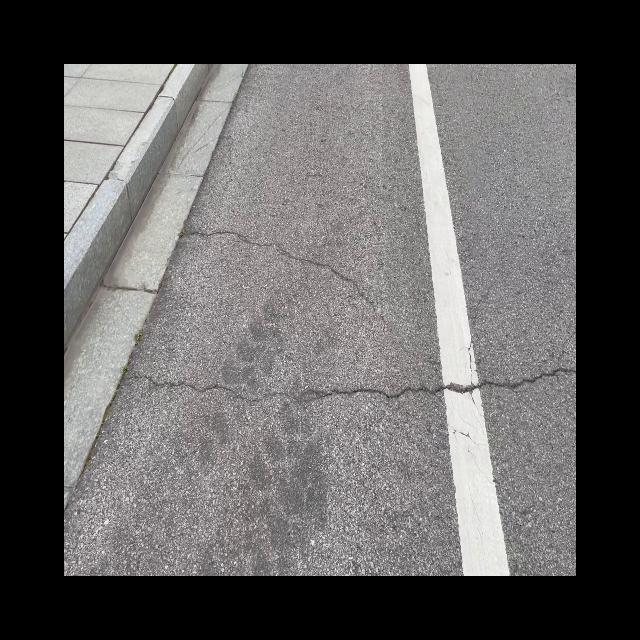retak_memanjang: (129, 337, 576, 437), (179, 222, 424, 349)
